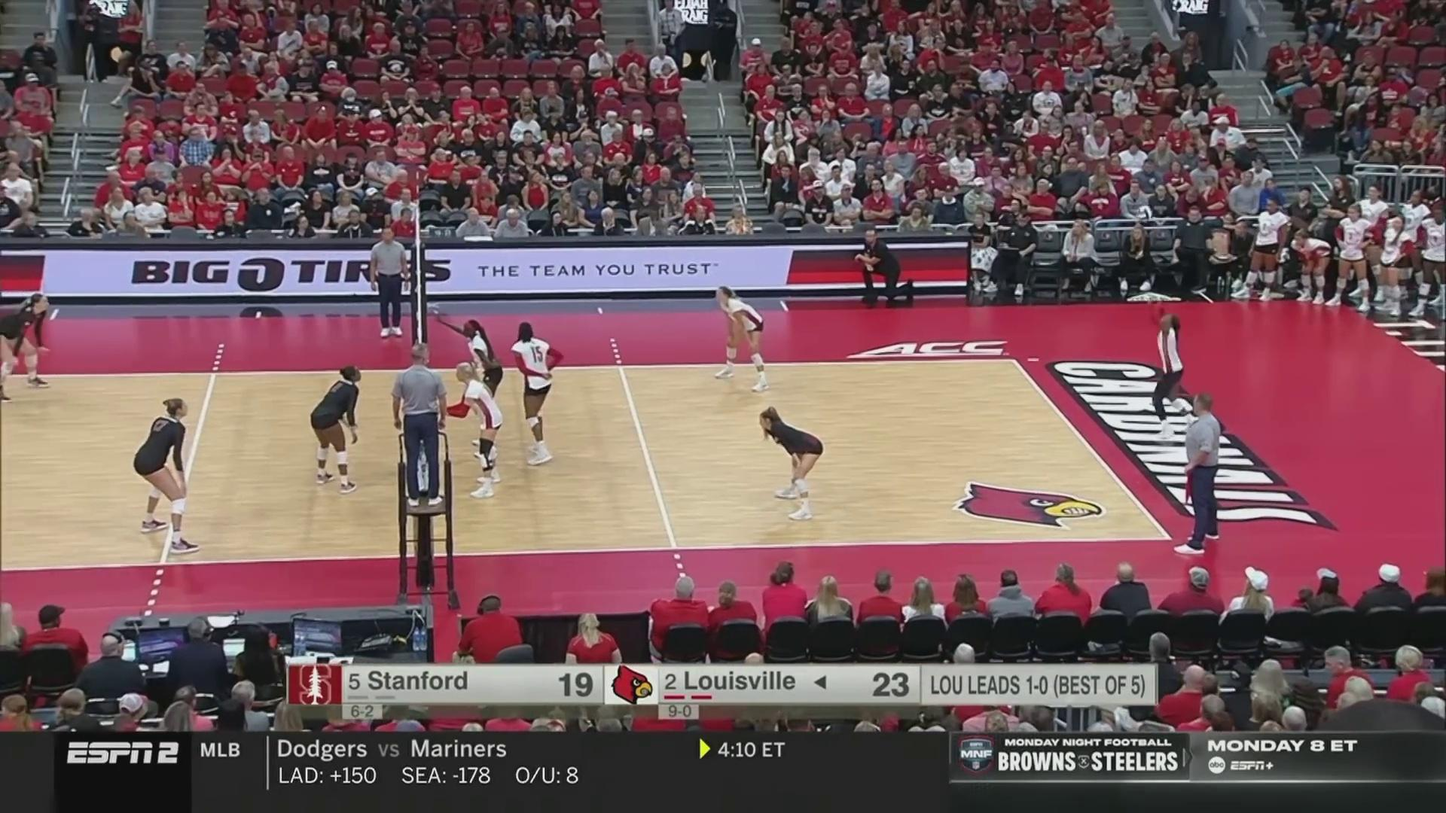player: (133, 401, 198, 543), (441, 363, 506, 500), (504, 326, 560, 466), (451, 316, 502, 461), (760, 408, 825, 516), (310, 368, 365, 491), (712, 286, 769, 390), (0, 292, 53, 401), (1151, 310, 1186, 442)
refree: (389, 345, 447, 505), (1172, 392, 1224, 554), (368, 228, 410, 340)
